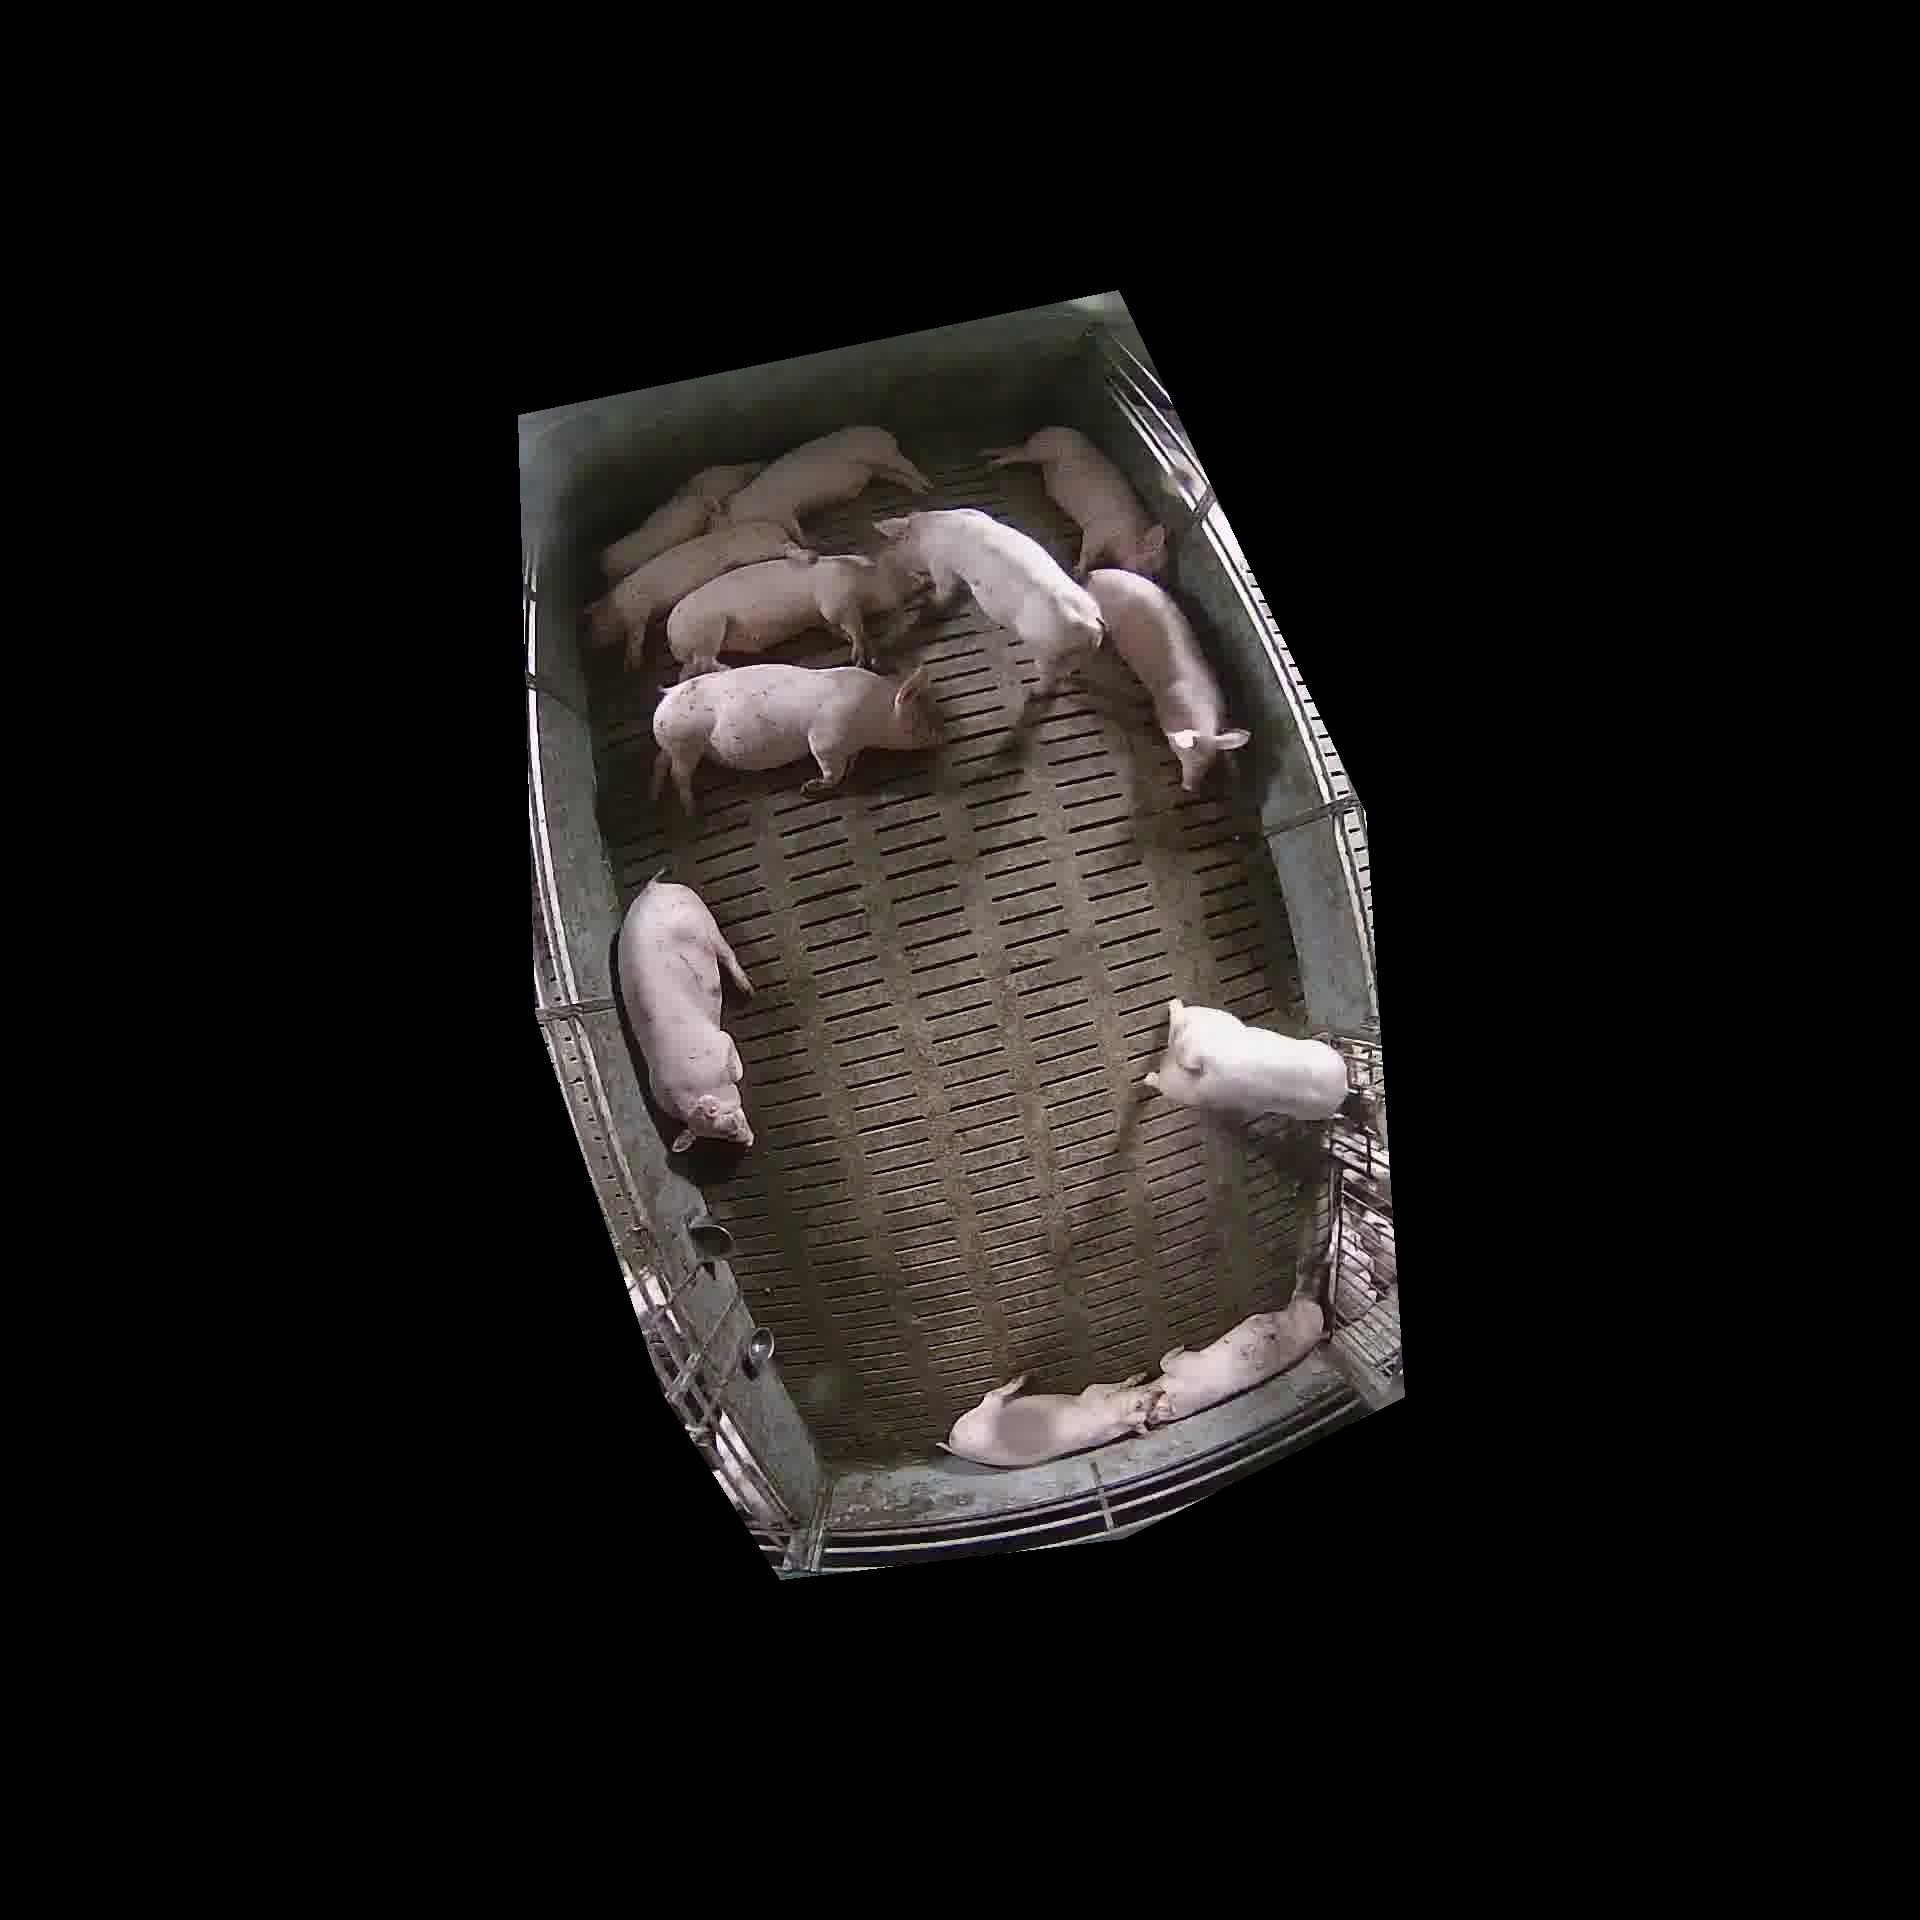pig: (652, 665, 941, 812), (877, 508, 1102, 696), (617, 879, 753, 1152), (1087, 568, 1250, 793), (666, 554, 925, 679), (585, 522, 805, 666), (983, 427, 1167, 577), (1146, 1000, 1347, 1118), (726, 425, 928, 542), (1148, 1296, 1324, 1422), (948, 1377, 1153, 1466)
